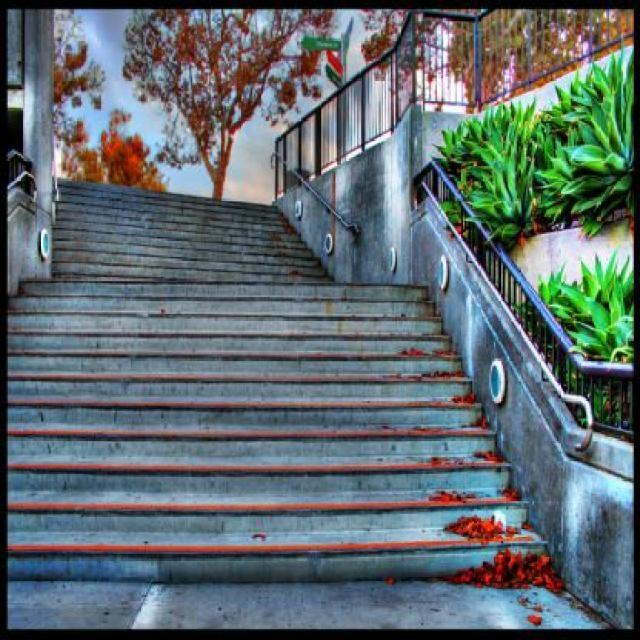stair: (1, 175, 634, 632)
